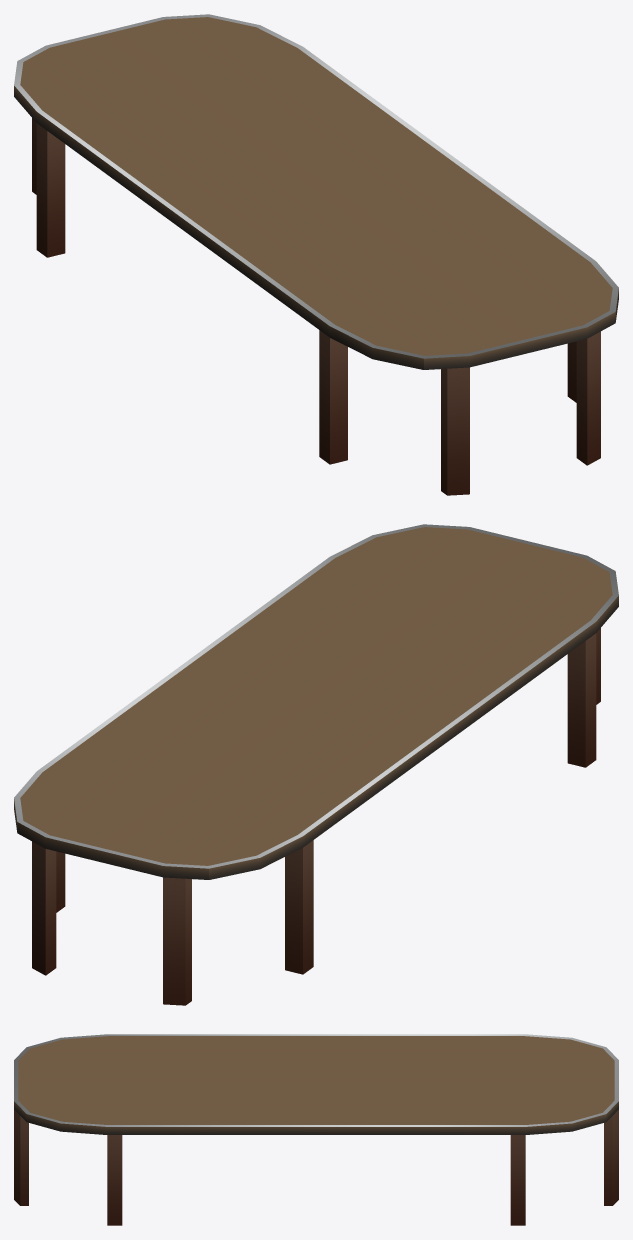
The model's file is Table_Conference.fbx.
The picture shows the model from 3 angles, top to bottom: view 1: azimuth 30°, elevation 25°; view 2: azimuth 150°, elevation 25°; view 3: azimuth 270°, elevation 25°; orthographic projection. The views are drawn at different scales.
Visible parts, largest first — view 1: Table_Conference; view 2: Table_Conference; view 3: Table_Conference.
Part boxes in pixels (x1,y1,x2,y2): Table_Conference: [14, 14, 618, 495]; Table_Conference: [14, 524, 618, 1005]; Table_Conference: [14, 1034, 618, 1225].
Bounding box in the file's own units: 148 × 73.38 × 408.
